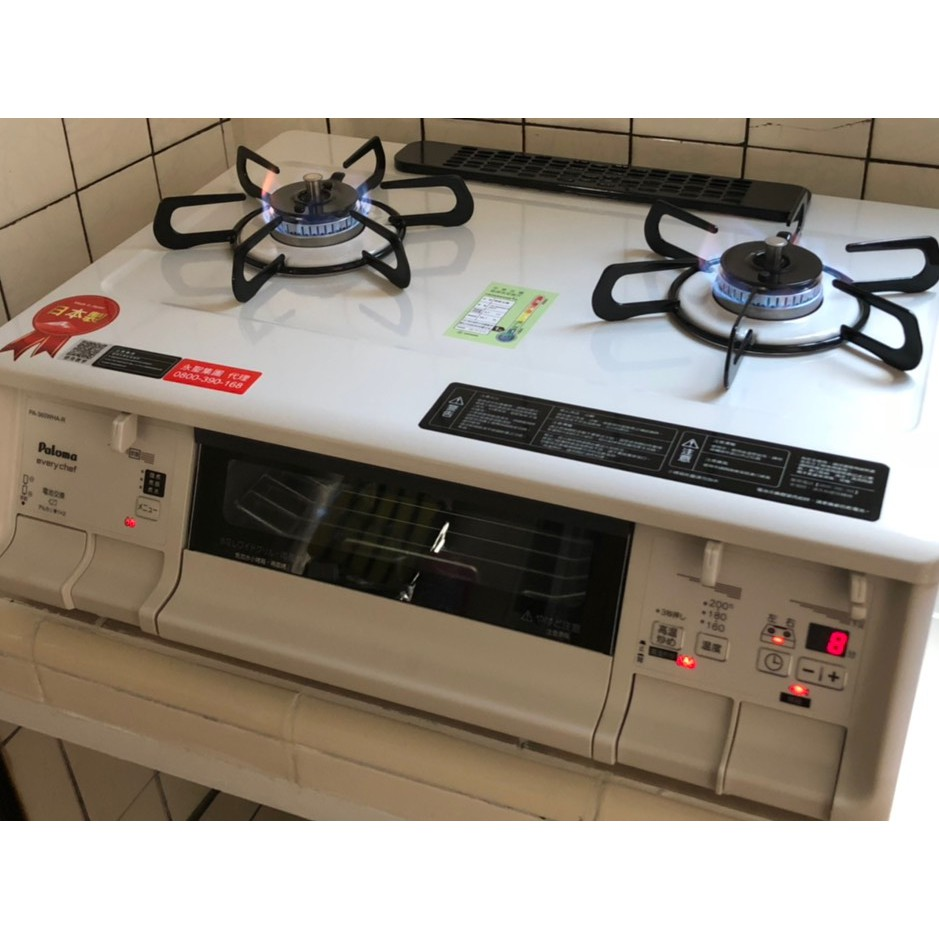gasoven: (3, 127, 939, 831)
